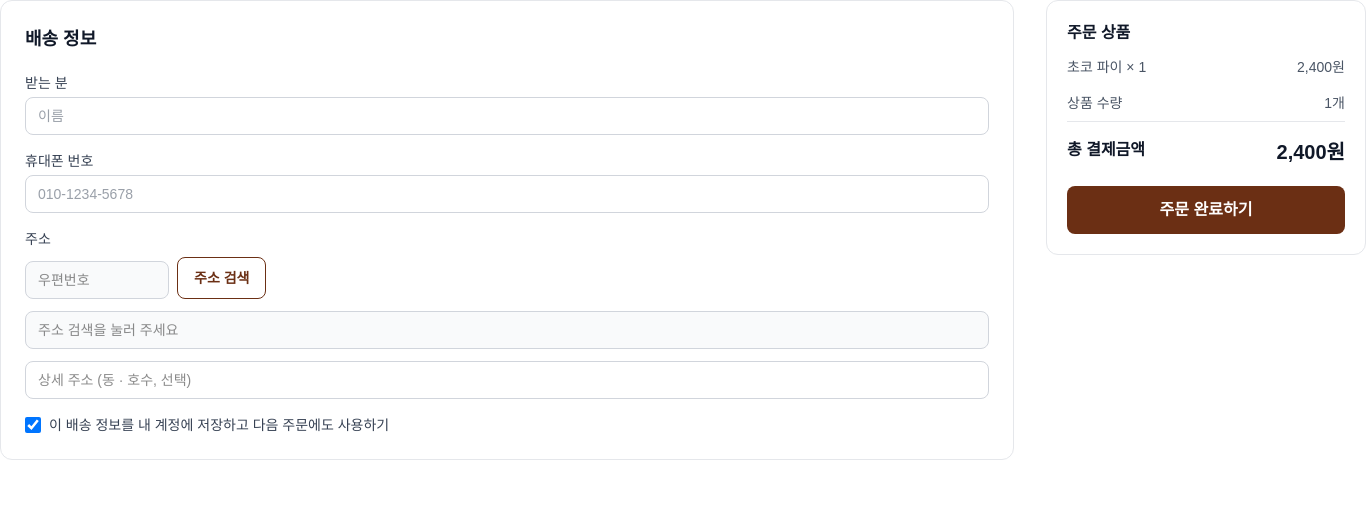
주문서 배송 정보 › 주문을 누르면 첫 번째 틀린 칸으로 커서가 가요
Type "김" into the field labelled "받는 분" at (507,116), box x1=25 y1=97 x2=989 y2=135
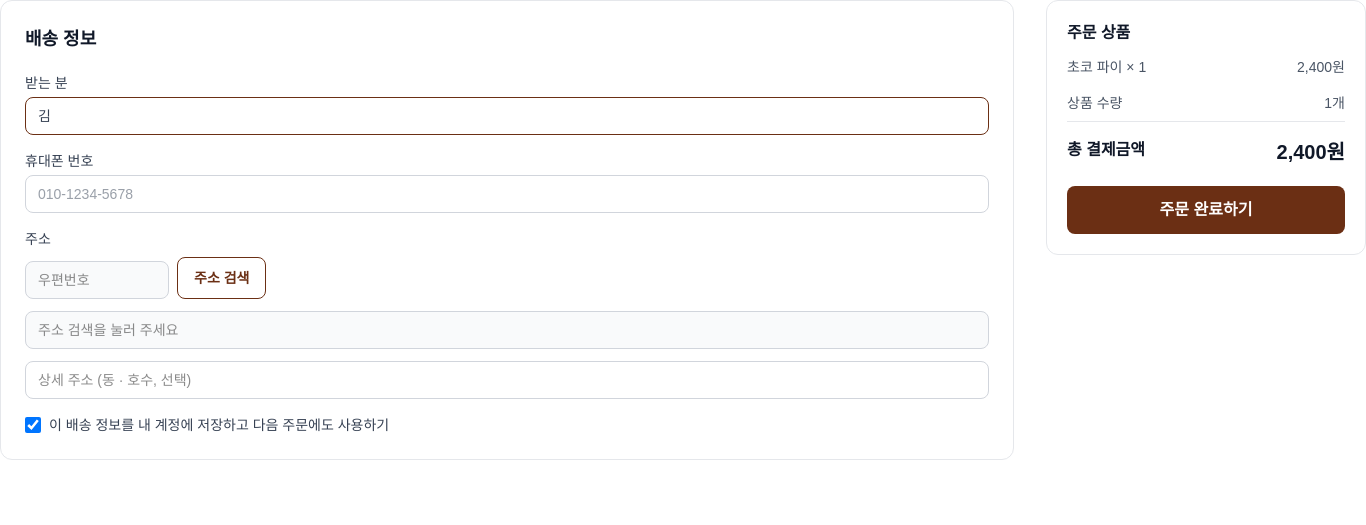
Click the button "주문 완료하기" at (1206,210), box x1=1067 y1=186 x2=1345 y2=234
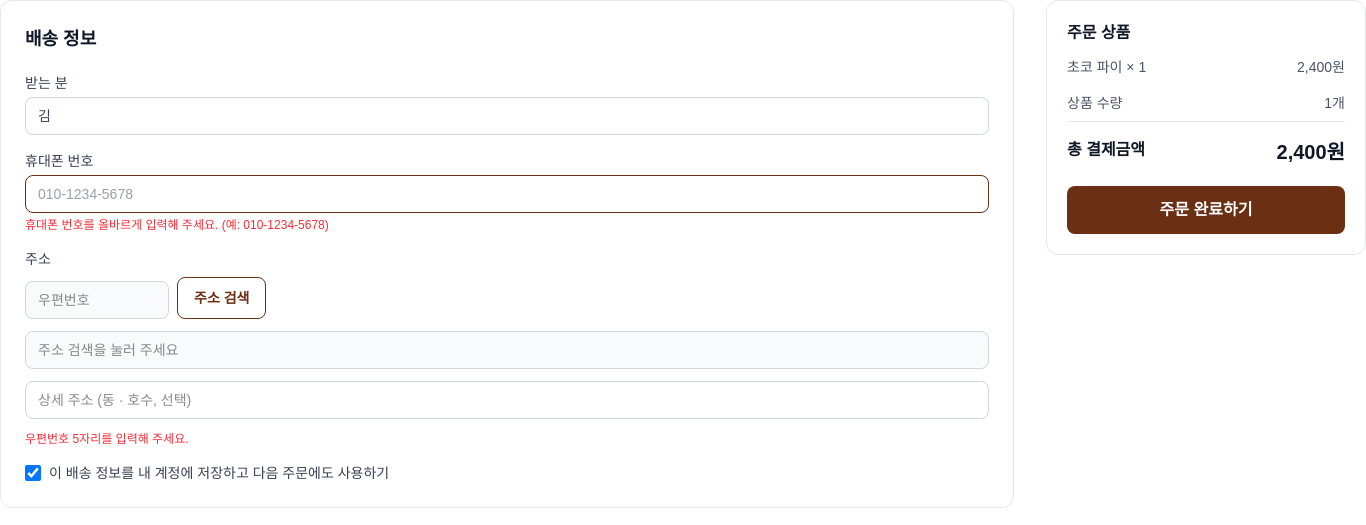
Expected: the text "우편번호 5자리를 입력해 주세요." is shown, x1=25 y1=432 x2=188 y2=446
